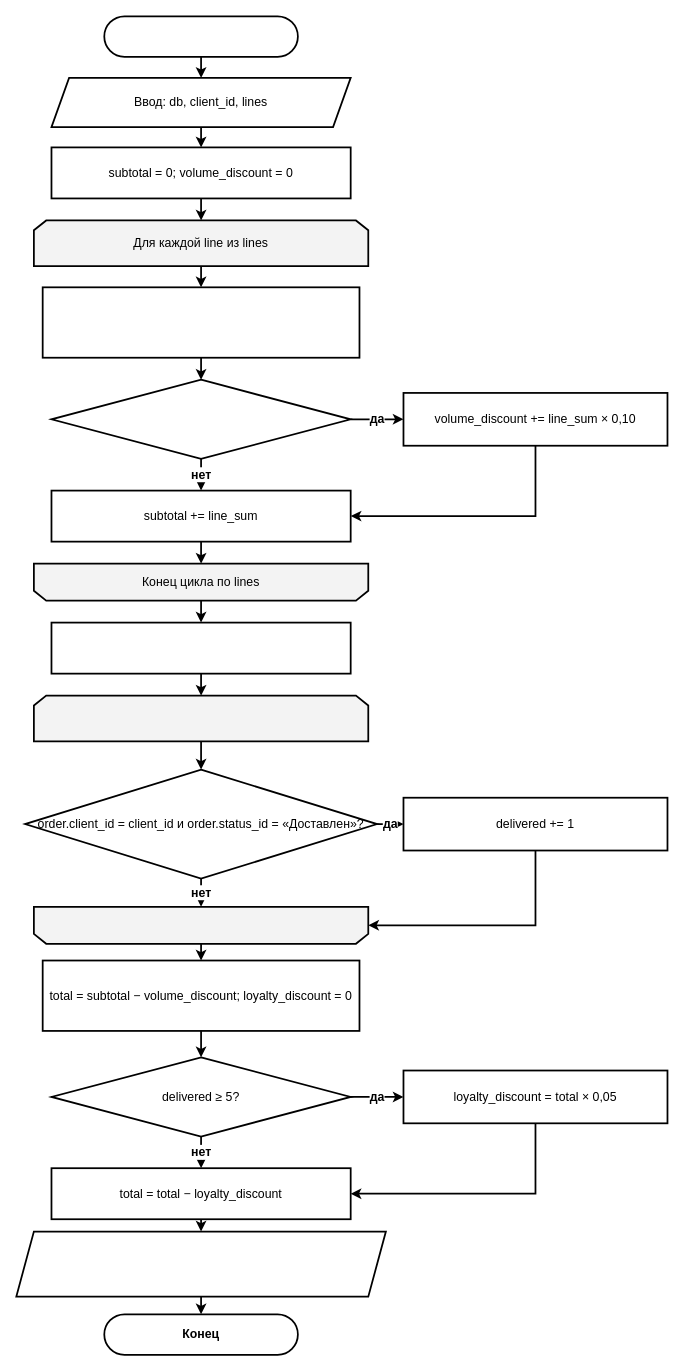
This 683x1370 diagram has some shape labels left out. The centre of each missing label's shape, as x and y in pixels:
"delivered = 0" goes at [200,647].
"item = menu_items[line.item_id]; line_sum = item.price × line.quantity" goes at [200,322].
"line.quantity ≥ 3?" goes at [200,418].
"Вывод: subtotal, volume_discount, loyalty_discount, total" goes at [200,1263].
"Для каждого order из orders" goes at [201,718].
"Конец цикла по orders" goes at [201,925].
"Начало" goes at [200,36].
